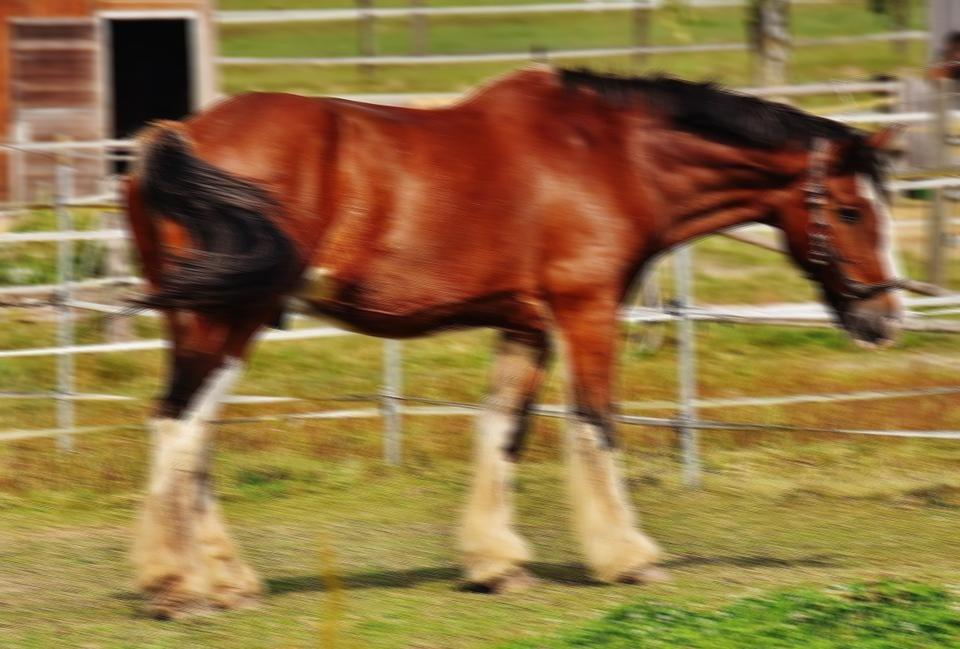horse: (91, 54, 921, 632)
